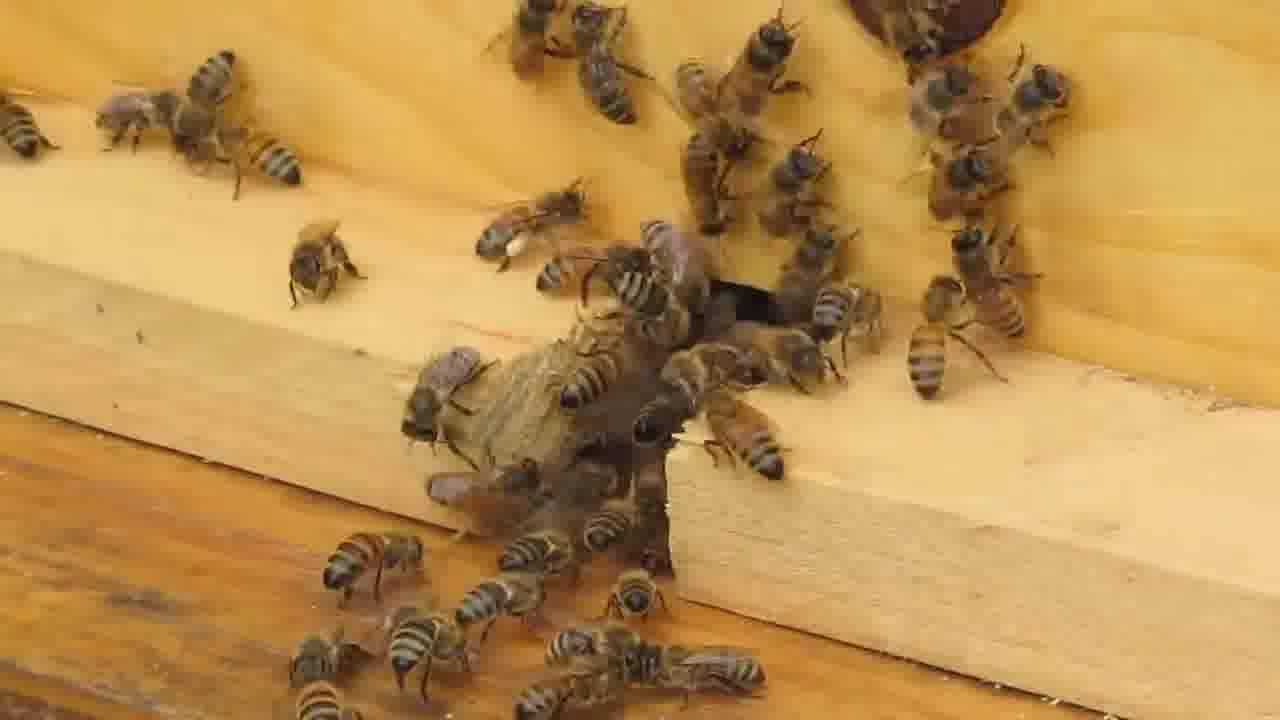pollen: (474, 185, 595, 259)
